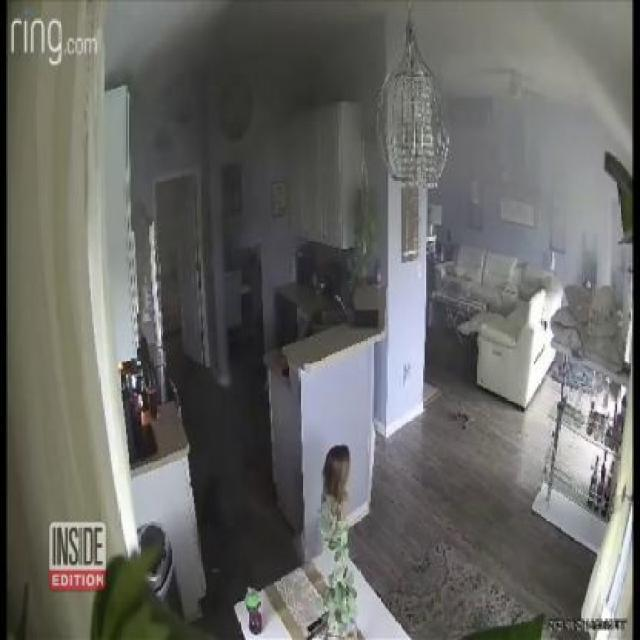smoke: (138, 12, 326, 125), (438, 92, 596, 216)
